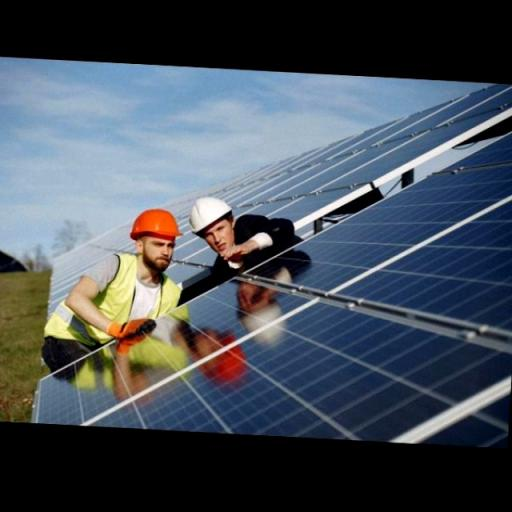Person: (35, 198, 193, 385), (182, 181, 310, 312)
gloves: (109, 308, 155, 340), (117, 329, 152, 350)
helmet: (192, 334, 248, 380), (236, 308, 288, 348), (130, 204, 186, 238), (186, 195, 234, 233)
none: (195, 218, 245, 240), (212, 240, 258, 262), (136, 240, 182, 252)
vest: (42, 250, 181, 348), (59, 301, 193, 397)
